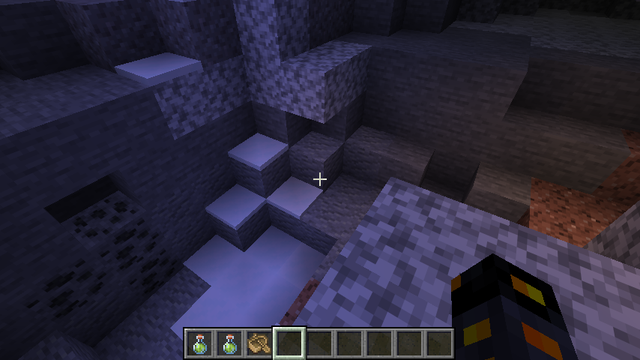coal: (23, 190, 190, 317)
